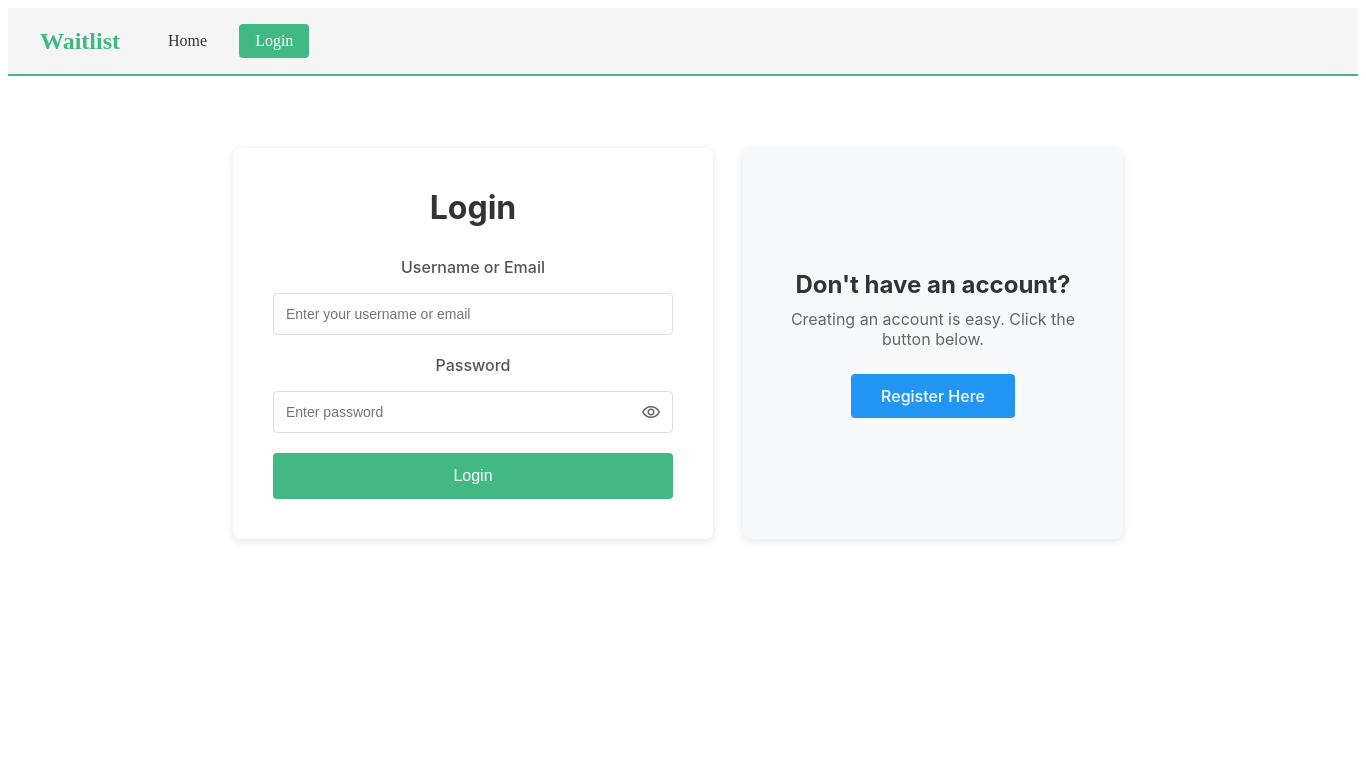
it: Login page › opens forgot password modal
# force an error so the link becomes visible
In the field with id "username": (473, 314) [273,293,673,335], type "bad"
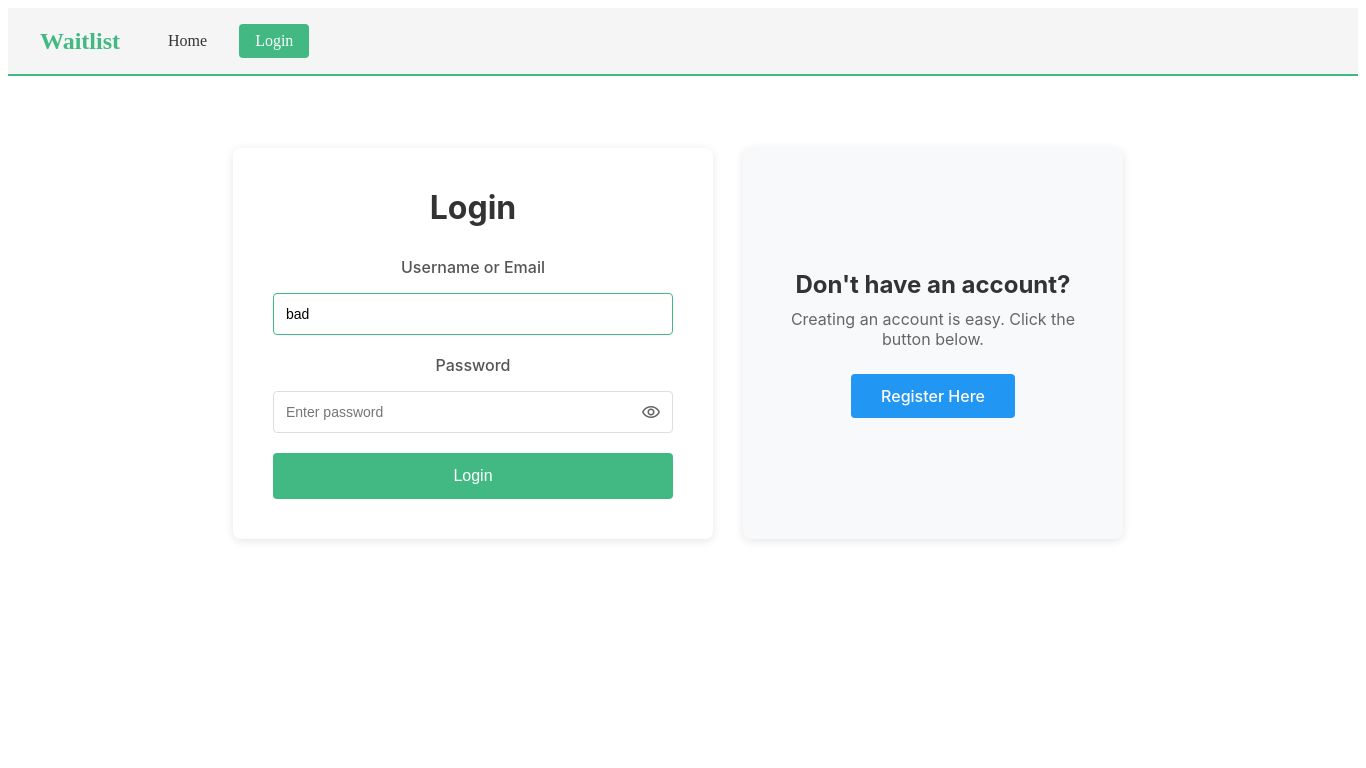
In the password field labelled "Password": (473, 412) [273,391,673,433], type "wrong"
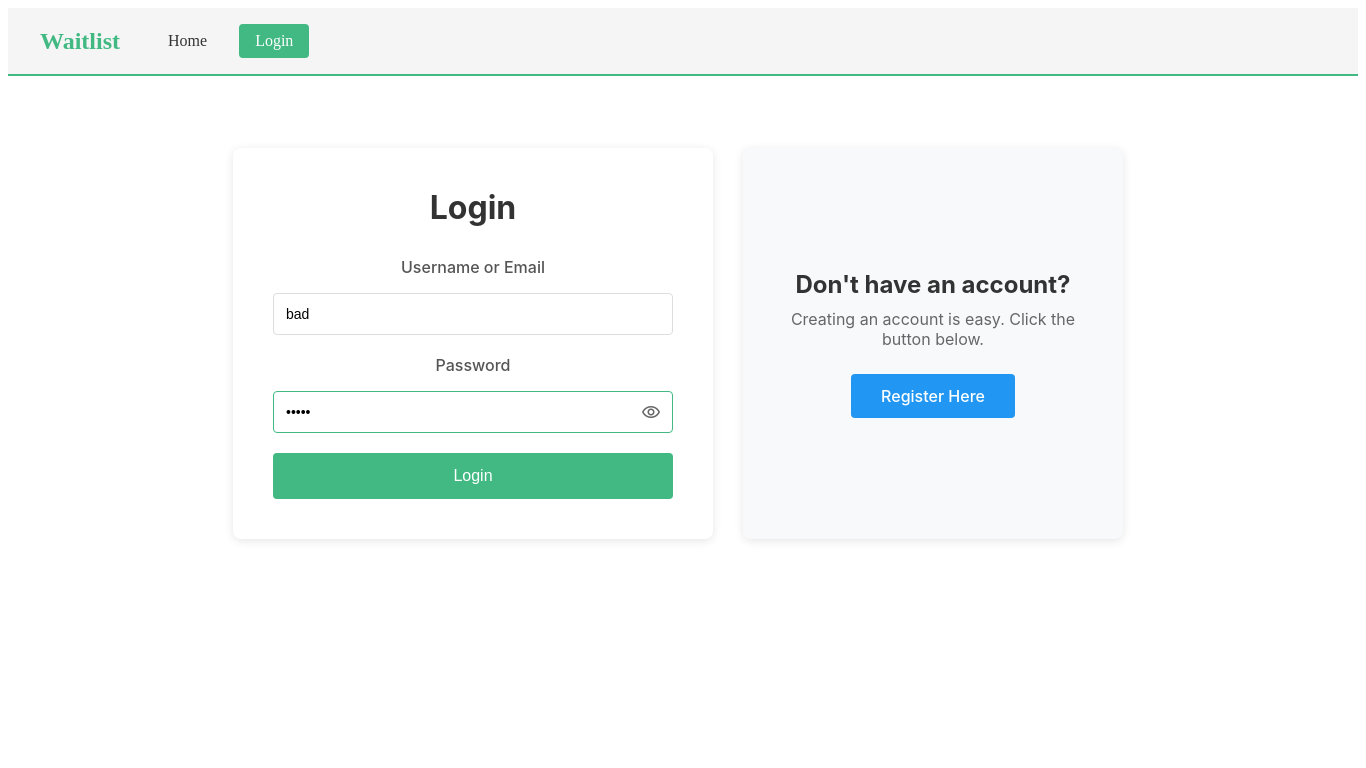
Click the submit button: (473, 476) [273,453,673,499]
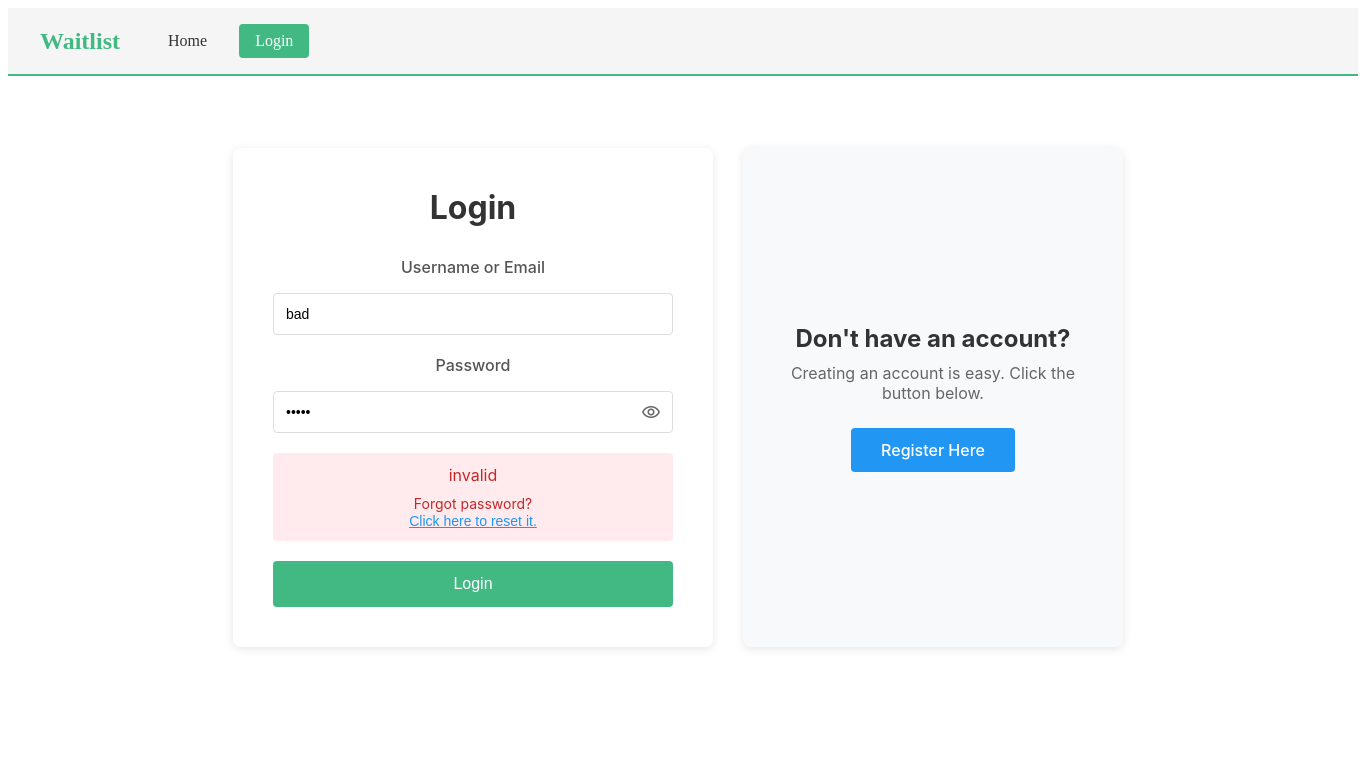
Click the button "Click here to reset it.": (473, 521) [285,513,661,529]
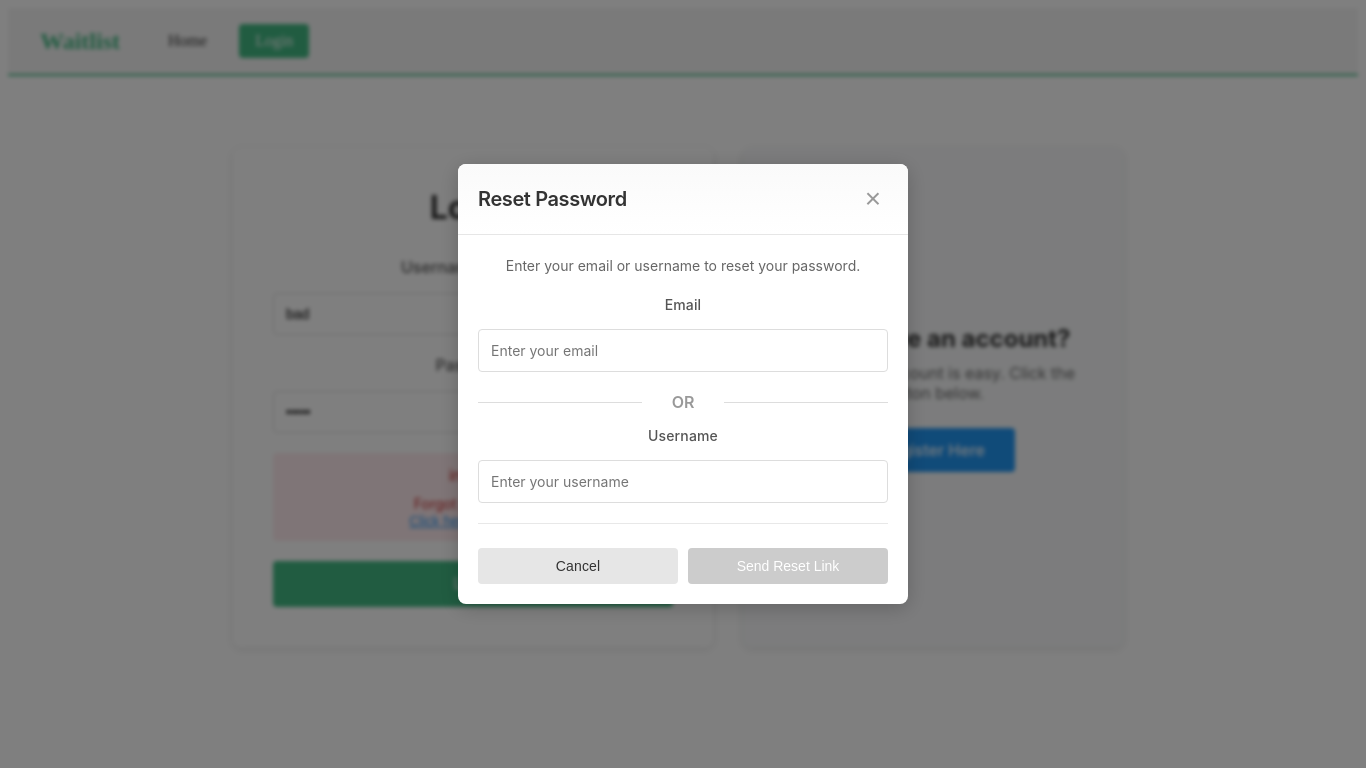
Expected: the element with class "modal-overlay" is shown
Expected: the field with id "resetEmail" is shown, [478,329,888,372]
